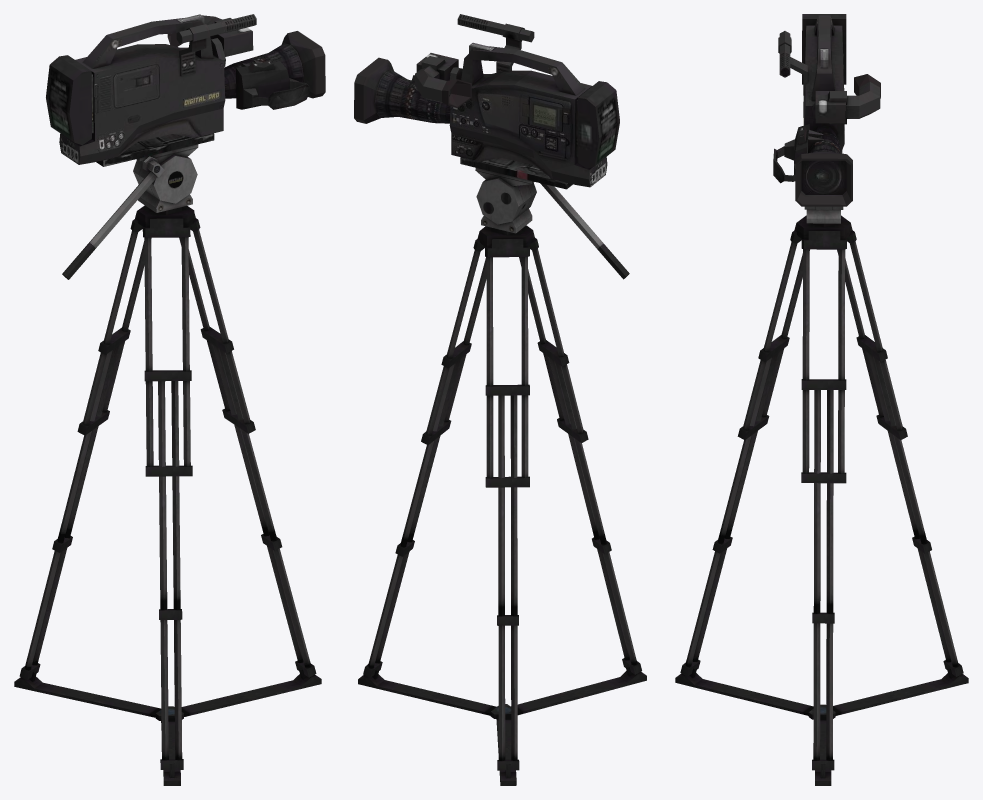
The model's file is camera.gltf.
3 views of the same model, side by side, from view 1: azimuth 30°, elevation 25°; view 2: azimuth 150°, elevation 25°; view 3: azimuth 270°, elevation 25° (orthographic). The views are drawn at different scales.
Size of the model in its own units: 0.9909 by 2.5 by 0.9724.
Materials: 2 (2 with a texture image).
